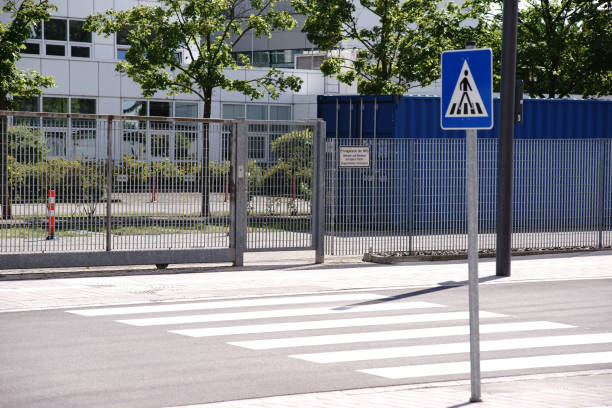yaya_gecidi_levha: (439, 44, 502, 135)
